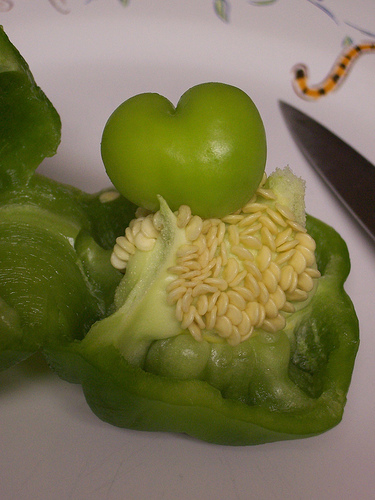capsicum: (0, 23, 362, 442)
